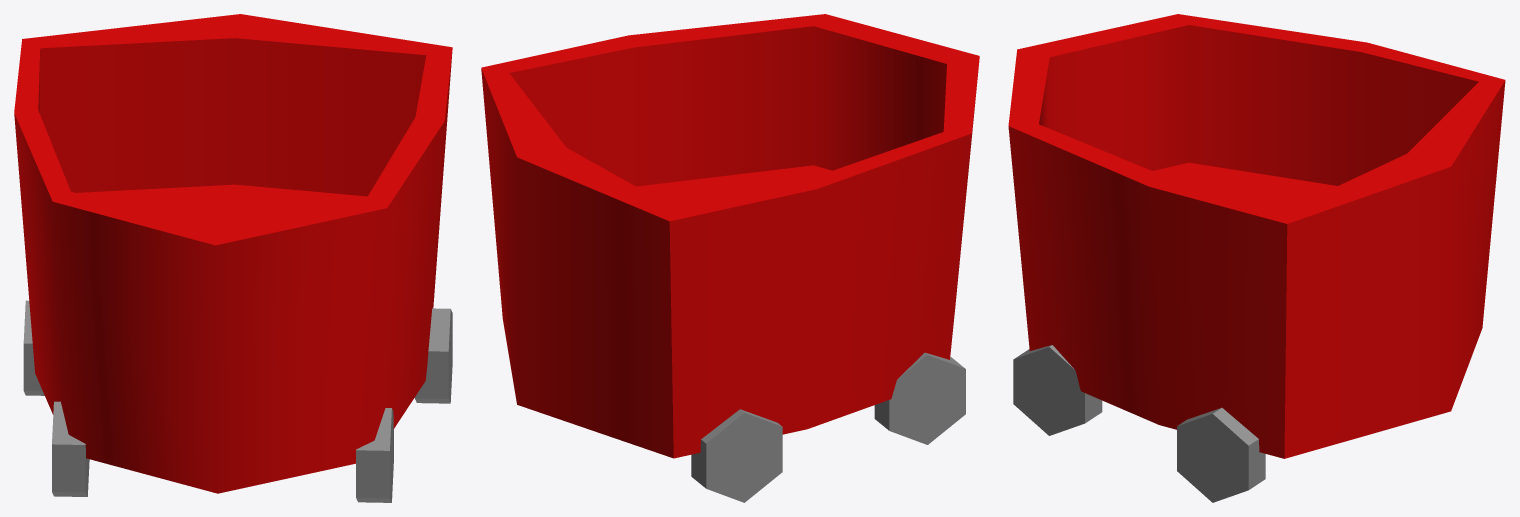
File: Big_Bucket.fbx
3 renders of one model, left to right at view 1: azimuth 30°, elevation 25°; view 2: azimuth 150°, elevation 25°; view 3: azimuth 270°, elevation 25°, orthographic. The views are drawn at different scales.
Visible parts, largest first — view 1: polySurface147; view 2: polySurface147; view 3: polySurface147.
Boxes of the visible parts, x1=… form: polySurface147: x1=14, y1=14, x2=452, y2=502; polySurface147: x1=481, y1=14, x2=979, y2=502; polySurface147: x1=1008, y1=14, x2=1505, y2=502.
Bounding box in the file's own units: 79.08 × 52.31 × 79.08.
